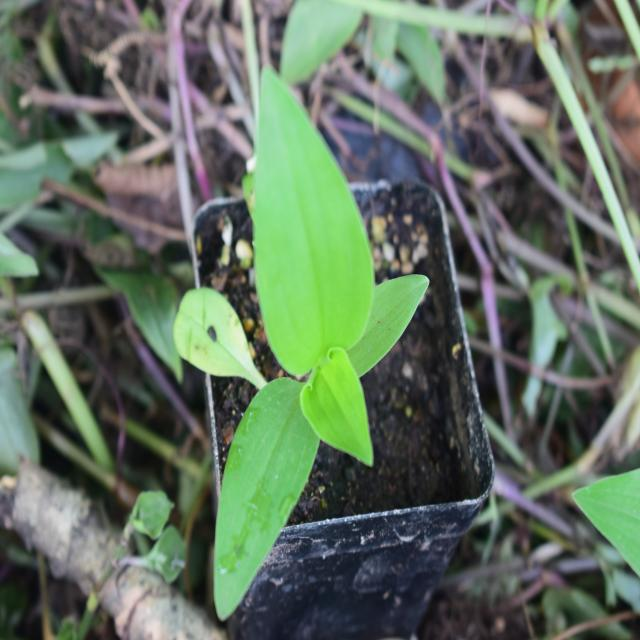Common Dayflower: (191, 63, 394, 611)
